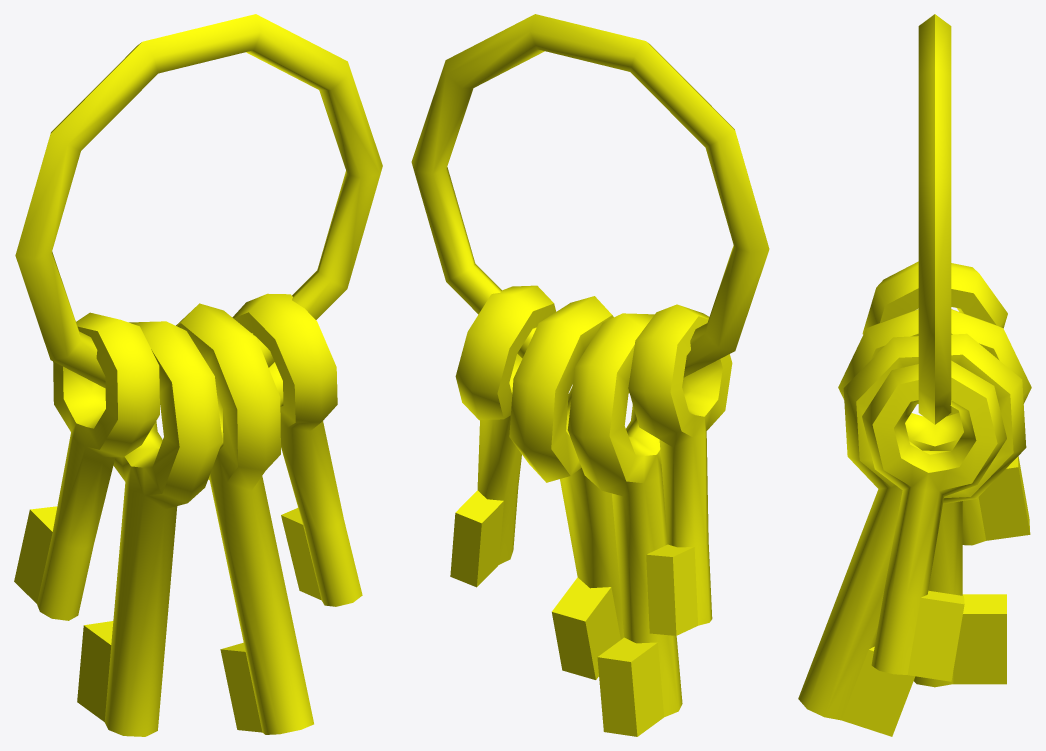
Rendered from kaykit-keyring-hanging.glb.
3 views of the same model, side by side, from view 1: azimuth 30°, elevation 25°; view 2: azimuth 150°, elevation 25°; view 3: azimuth 270°, elevation 25° (orthographic). The views are drawn at different scales.
Parts seen in each view (by area): view 1: keyring_hanging; view 2: keyring_hanging; view 3: keyring_hanging.
Boxes of the visible parts, bbox=[...] form: keyring_hanging: bbox=[14, 14, 382, 736]; keyring_hanging: bbox=[411, 14, 769, 736]; keyring_hanging: bbox=[798, 14, 1031, 736].
Size of the model in its own units: 0.6797 by 1.22 by 0.3835.
